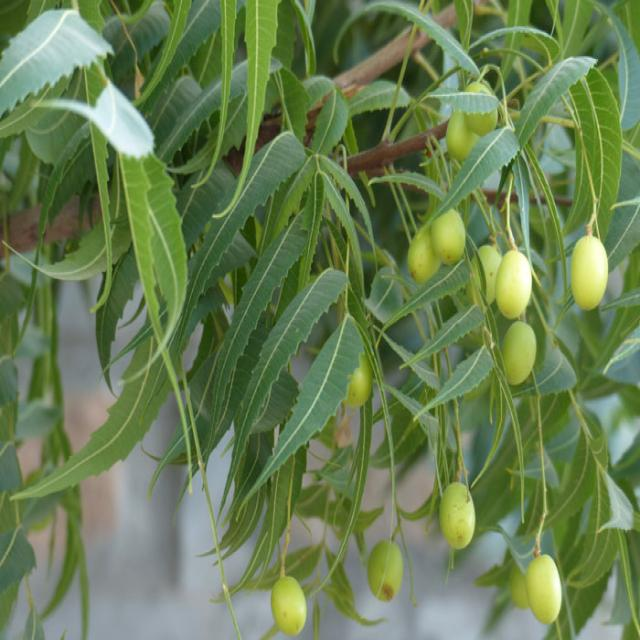Medicinal-Neem: (3, 0, 640, 634)
